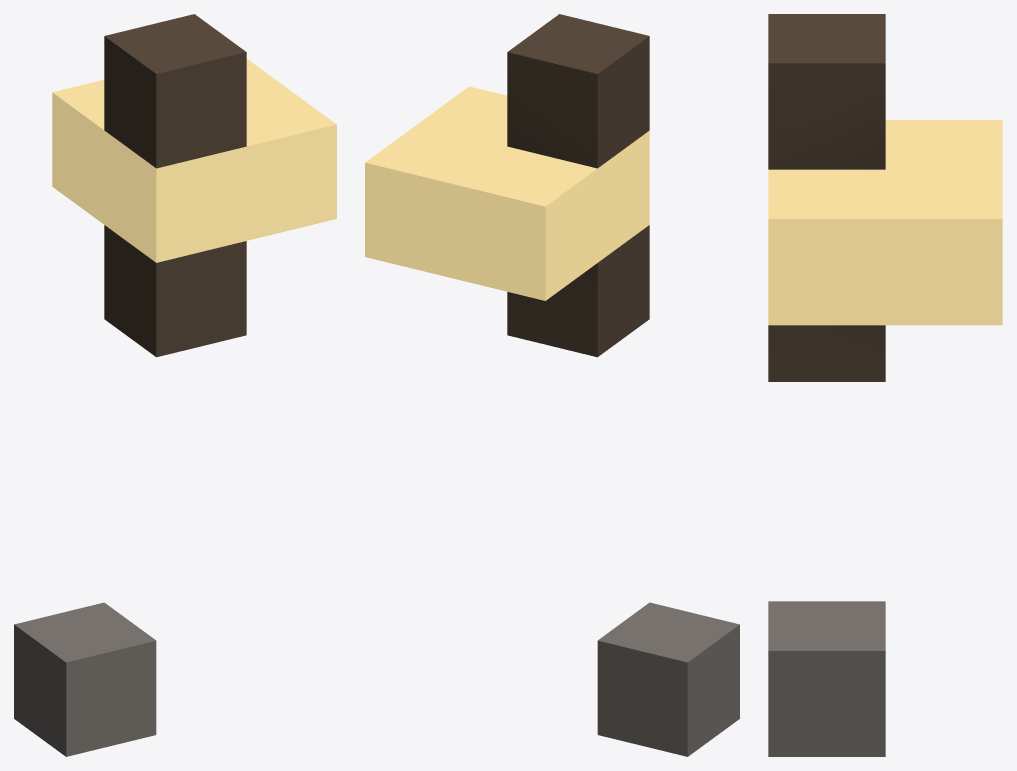
File: lanternPost_1_lod.glb
3 renders of one model, left to right at view 1: azimuth 30°, elevation 25°; view 2: azimuth 150°, elevation 25°; view 3: azimuth 270°, elevation 25°, orthographic. The views are drawn at different scales.
Visible parts, largest first — view 1: solid, glow; view 2: solid, glow; view 3: solid, glow.
Boxes of the visible parts, left/top/right/bottom form: solid: left=14, top=14, right=246, bottom=756; glow: left=52, top=59, right=336, bottom=262; solid: left=507, top=14, right=739, bottom=756; glow: left=365, top=86, right=649, bottom=300; solid: left=768, top=14, right=885, bottom=756; glow: left=768, top=120, right=1002, bottom=325.
Size of the model in its own units: 0.75 by 1.75 by 0.5.
